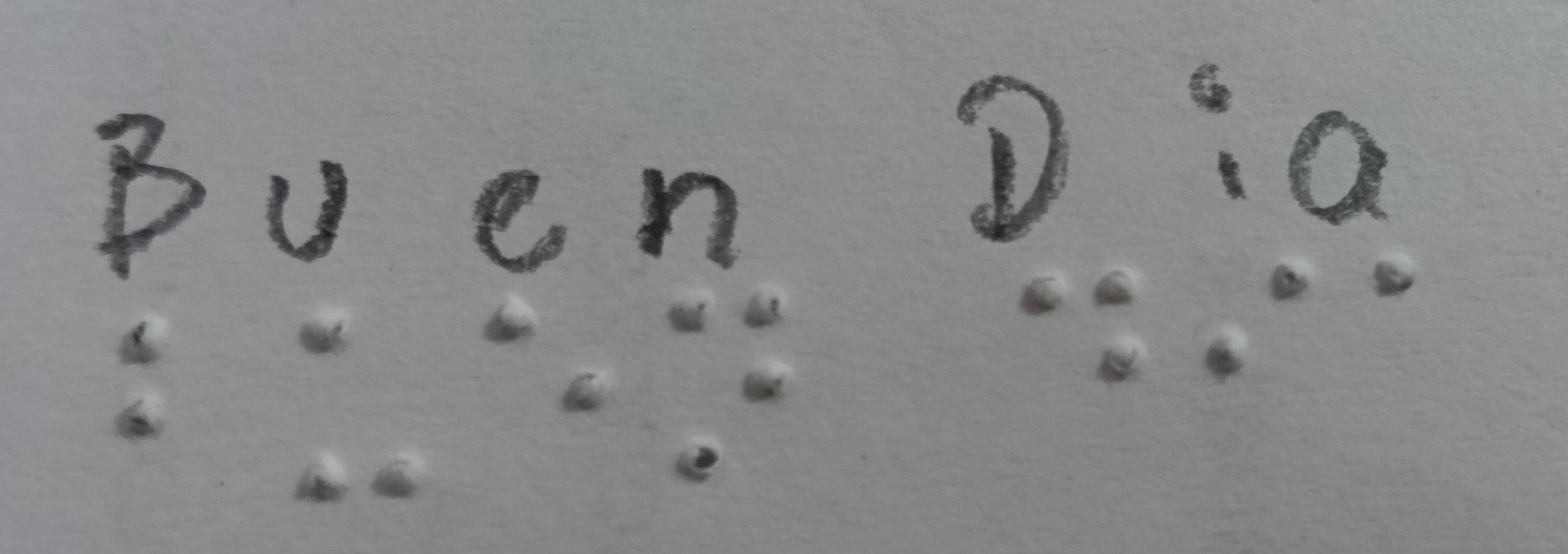a: (1329, 242, 1449, 313)
b: (75, 296, 203, 460)
d: (1008, 251, 1164, 389)
e: (477, 283, 617, 430)
i: (1180, 253, 1318, 399)
n: (638, 281, 821, 485)
u: (244, 303, 455, 518)
